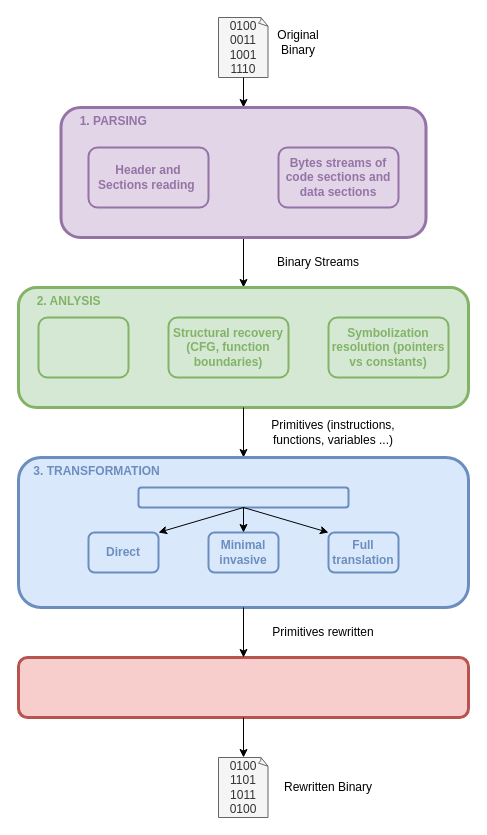
Image size: 487x835. Some labels were removed from this diagram. Here are the shapes that lost their labels. From the top down, the centre of each, then its label:
At point (83, 347): "Disassembly".
At point (243, 497): "Instrumentation point insertion".
At point (243, 687): "4. CODE GENERATION".
